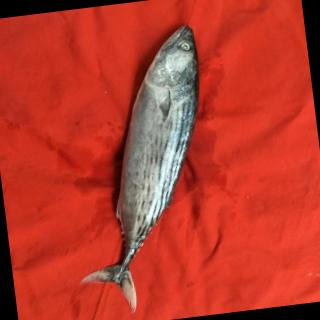Ikan: (63, 18, 232, 318)
